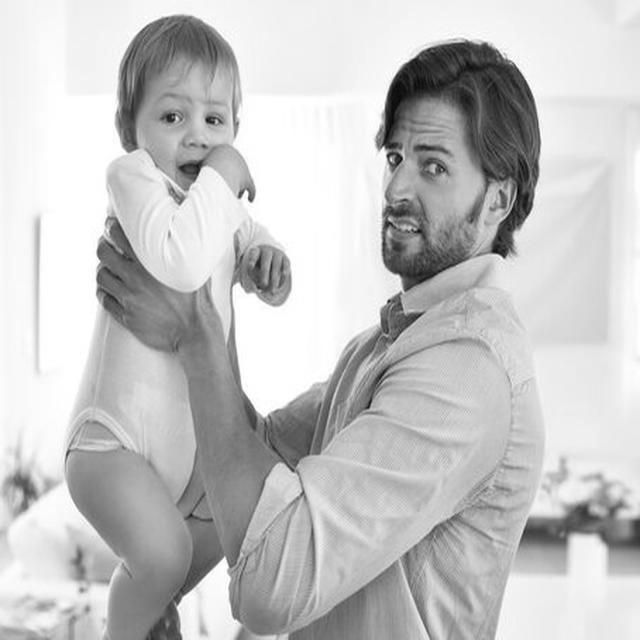Disgust: (380, 94, 485, 278), (138, 61, 239, 187)
